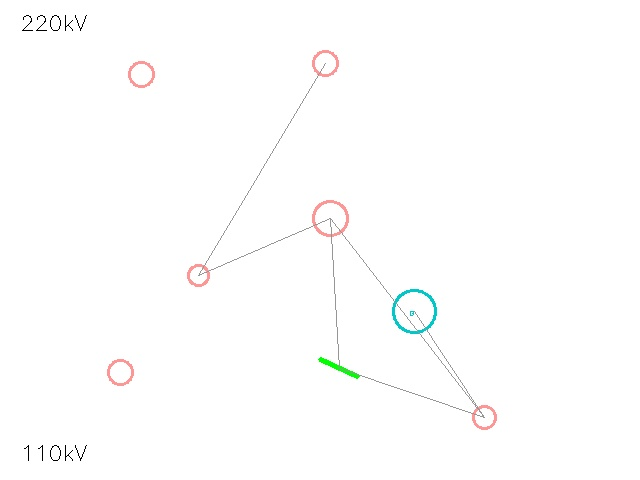busbar: (313, 342, 365, 394)
current_transformer: (300, 38, 350, 88)
disconnect_switch: (461, 394, 507, 440)
fuse: (96, 348, 144, 396), (178, 255, 218, 295)
generator: (393, 290, 435, 332)
load_break_switch: (296, 184, 364, 252), (117, 50, 165, 98)
